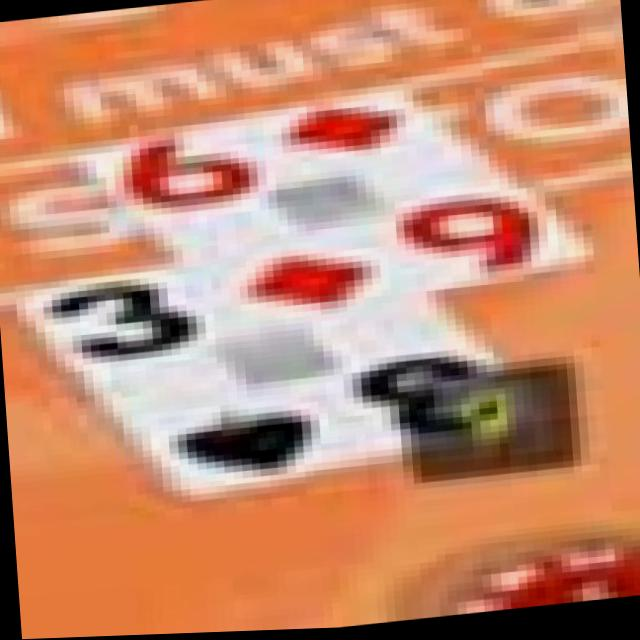Card-3: (17, 267, 550, 506)
Card-6: (82, 86, 595, 335)
